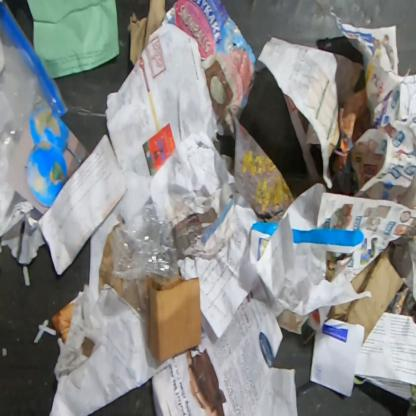cardboard: (160, 0, 258, 139), (4, 96, 90, 216), (326, 243, 405, 345), (146, 275, 203, 364), (126, 0, 166, 66), (99, 230, 112, 294), (326, 259, 337, 282)
soft_plastic: (0, 0, 71, 192), (109, 201, 179, 313)
